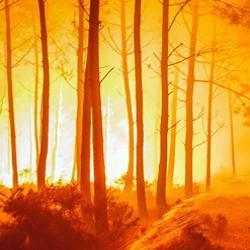fire: (52, 90, 77, 184), (102, 102, 127, 178), (16, 106, 39, 175), (0, 124, 8, 186)
